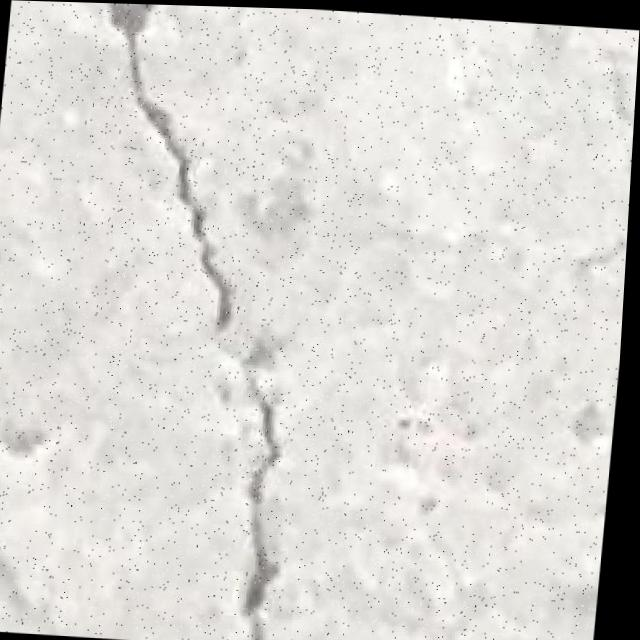Crack: (56, 2, 344, 640)
